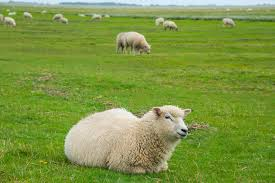sheep: (64, 104, 189, 175), (118, 31, 153, 57), (162, 19, 179, 32), (222, 17, 239, 30), (4, 14, 17, 29), (20, 10, 34, 23), (88, 13, 107, 21), (153, 16, 168, 26), (50, 13, 64, 23), (61, 16, 70, 25)
